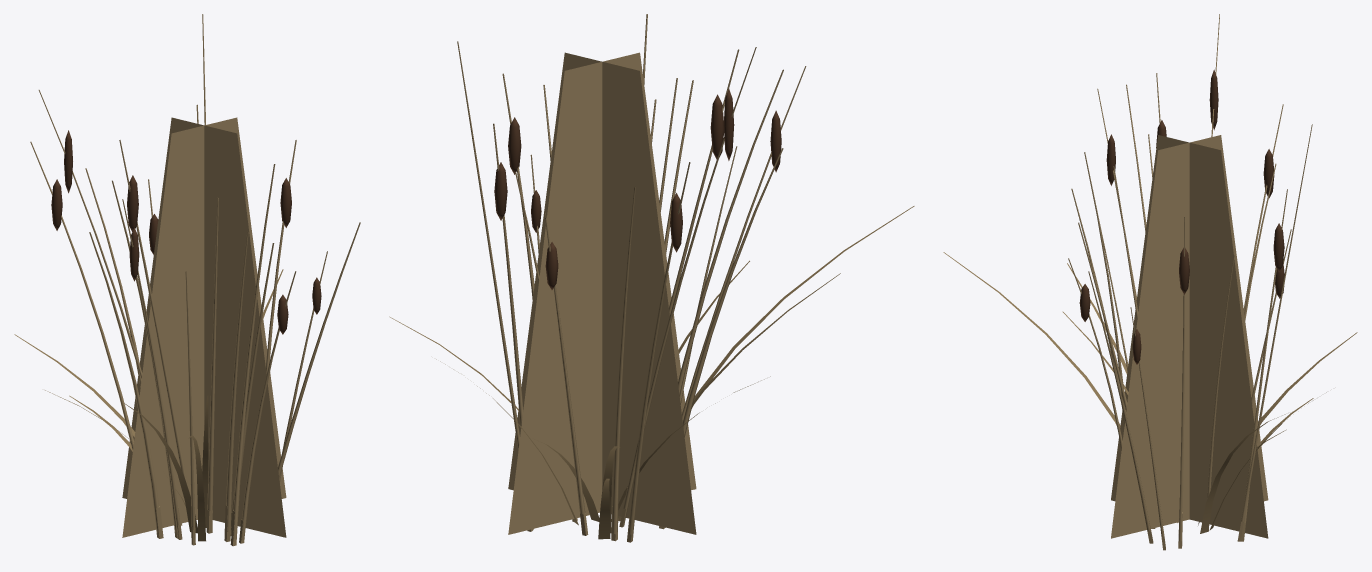
Rendered from reed_clump_3.glb.
3 views of the same model, side by side, from view 1: azimuth 30°, elevation 25°; view 2: azimuth 150°, elevation 25°; view 3: azimuth 270°, elevation 25° (orthographic). The views are drawn at different scales.
Visible parts, largest first — view 1: LOD_Far, ReedClump_Stalks_0, ReedClump_Stalks_2, ReedClump_Stalks_1, ReedClump_Blades_2, ReedClump_Heads_0, ReedClump_Heads_1, ReedClump_StubbleStalks, ReedClump_Blades_1, ReedClump_Heads_2, ReedClump_Blades_0; view 2: LOD_Far, ReedClump_Stalks_1, ReedClump_Stalks_2, ReedClump_Stalks_0, ReedClump_Heads_2, ReedClump_Blades_2, ReedClump_Heads_1, ReedClump_Heads_0, ReedClump_Blades_0, ReedClump_Blades_1; view 3: LOD_Far, ReedClump_Stalks_1, ReedClump_Stalks_2, ReedClump_Stalks_0, ReedClump_Heads_2, ReedClump_Heads_1, ReedClump_Blades_2, ReedClump_Heads_0, ReedClump_Blades_1, ReedClump_Blades_0.
Part boxes in pixels (box(x1,y1,x2,y2)): LOD_Far: box(122, 117, 286, 537); ReedClump_Stalks_0: box(38, 90, 296, 539); ReedClump_Stalks_2: box(89, 104, 360, 533); ReedClump_Stalks_1: box(30, 14, 327, 532); ReedClump_Blades_2: box(124, 403, 205, 541); ReedClump_Heads_0: box(64, 130, 288, 334); ReedClump_Heads_1: box(51, 179, 321, 314); ReedClump_StubbleStalks: box(156, 505, 244, 546); ReedClump_Blades_1: box(45, 269, 283, 527); ReedClump_Heads_2: box(149, 178, 291, 254); ReedClump_Blades_0: box(14, 334, 135, 451); LOD_Far: box(508, 52, 696, 534); ReedClump_Stalks_1: box(457, 41, 806, 536); ReedClump_Stalks_2: box(493, 73, 783, 514); ReedClump_Stalks_0: box(623, 14, 783, 521); ReedClump_Heads_2: box(494, 117, 558, 289); ReedClump_Blades_2: box(534, 206, 914, 521); ReedClump_Heads_1: box(531, 110, 781, 252); ReedClump_Heads_0: box(710, 88, 734, 160); ReedClump_Blades_0: box(436, 359, 619, 539); ReedClump_Blades_1: box(389, 260, 770, 521); LOD_Far: box(1111, 135, 1268, 538); ReedClump_Stalks_1: box(1097, 88, 1312, 536); ReedClump_Stalks_2: box(1071, 134, 1291, 541); ReedClump_Stalks_0: box(1068, 14, 1219, 450); ReedClump_Heads_2: box(1179, 223, 1284, 298); ReedClump_Heads_1: box(1106, 134, 1274, 364); ReedClump_Blades_2: box(943, 252, 1286, 525); ReedClump_Heads_0: box(1079, 69, 1218, 321); ReedClump_Blades_1: box(1062, 311, 1285, 533); ReedClump_Blades_0: box(1209, 332, 1357, 530).
Bounding box in the file's own units: 1.23 × 1.87 × 1.59.
